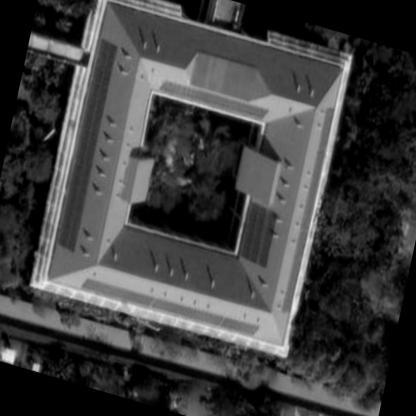solar-pv-panel: (58, 37, 118, 253), (80, 278, 259, 337), (159, 80, 268, 121), (240, 201, 278, 268)
